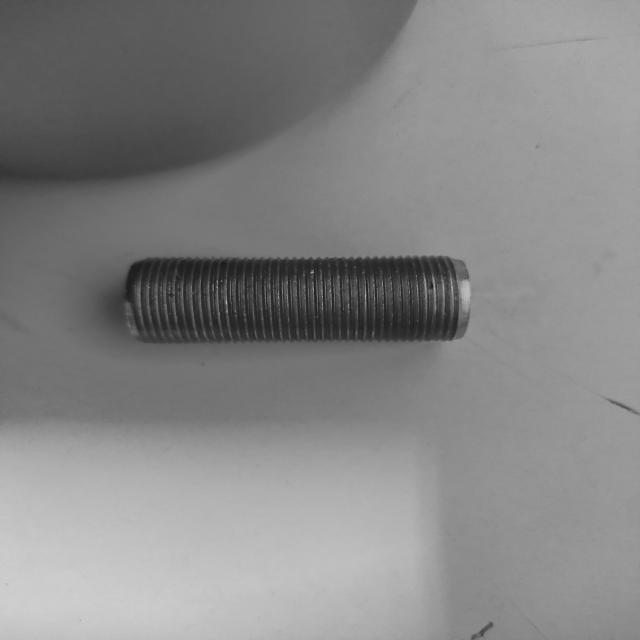Normal: (125, 253, 471, 346)
